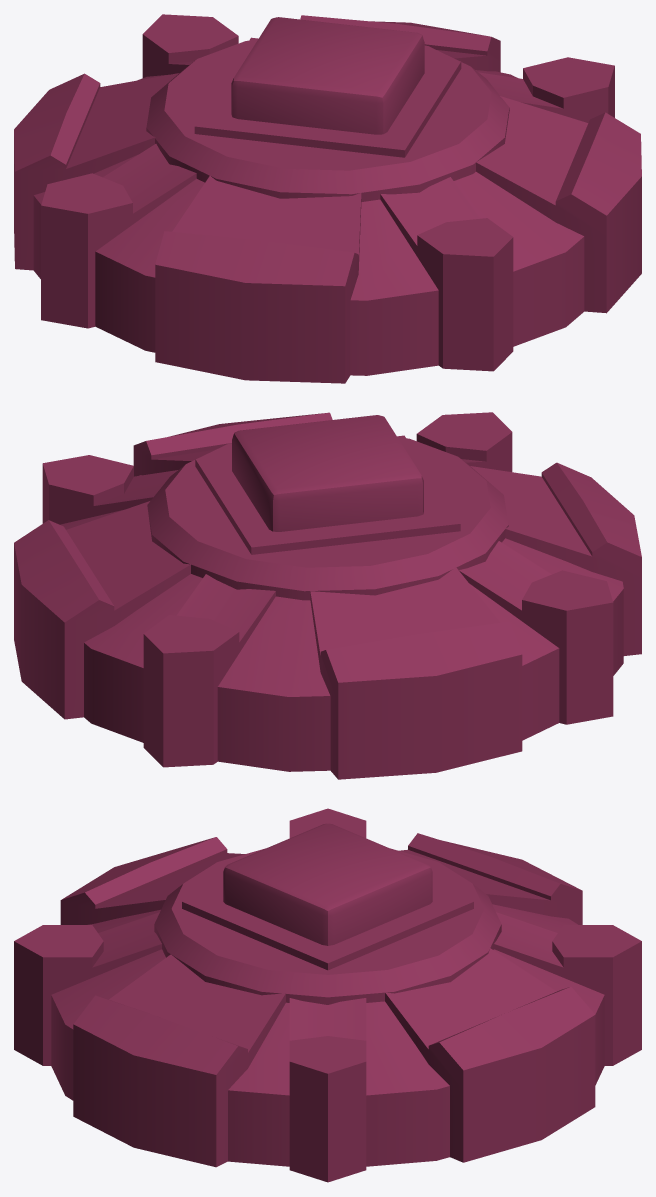
The model's file is SM_Mine.fbx.
3 views of the same model, one above another, from view 1: azimuth 30°, elevation 25°; view 2: azimuth 150°, elevation 25°; view 3: azimuth 270°, elevation 25° (orthographic). The views are drawn at different scales.
Parts seen in each view (by area): view 1: SM_mine; view 2: SM_mine; view 3: SM_mine.
Boxes of the visible parts, x1=… form: SM_mine: x1=14, y1=14, x2=641, y2=383; SM_mine: x1=14, y1=412, x2=641, y2=779; SM_mine: x1=14, y1=808, x2=641, y2=1182.
Bounding box in the file's own units: 0.911 × 0.2971 × 0.911.
